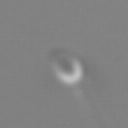normal: (73, 82, 116, 128)
